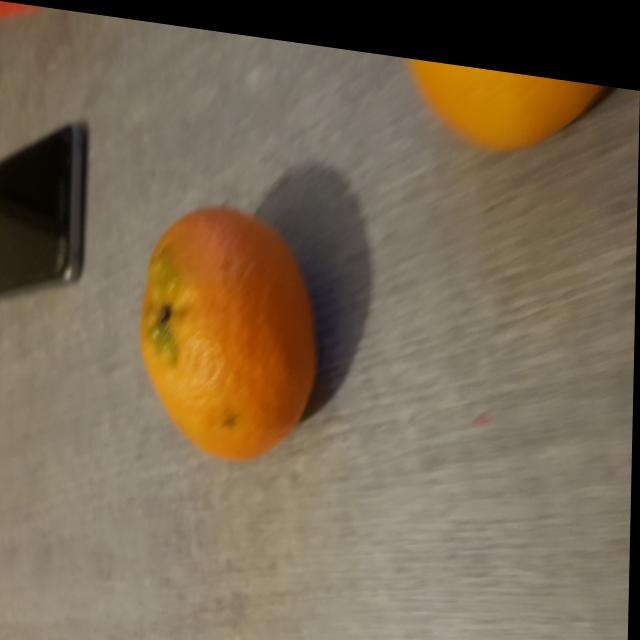Orange: (141, 199, 320, 454)
